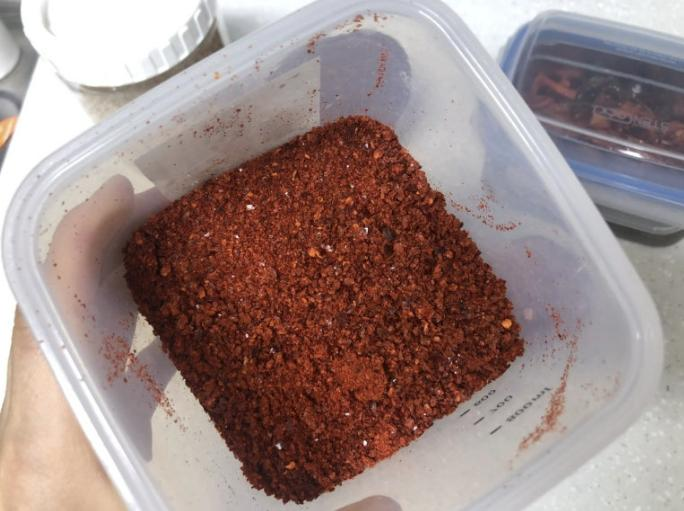Lunch Box: (2, 0, 662, 510)
